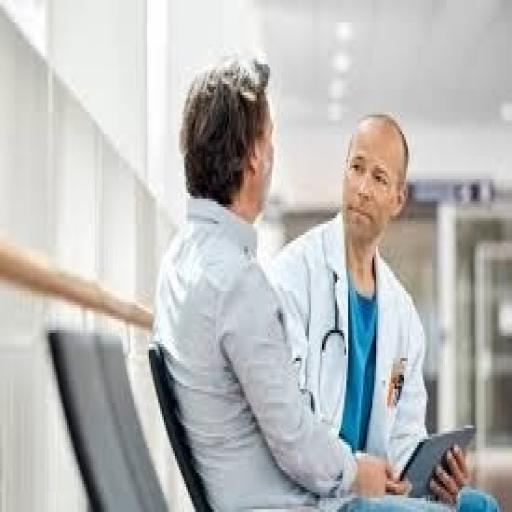sitting: (149, 50, 499, 510)
